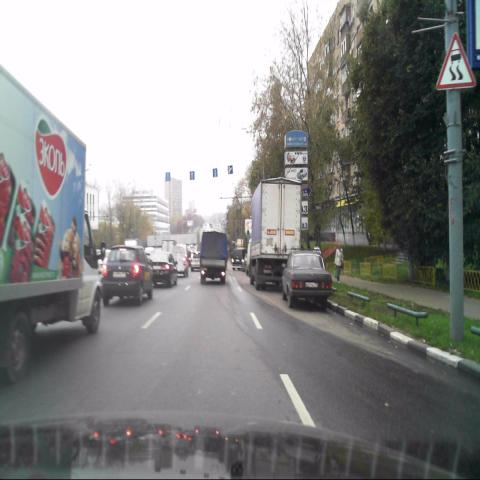1_15: (436, 28, 476, 90)
